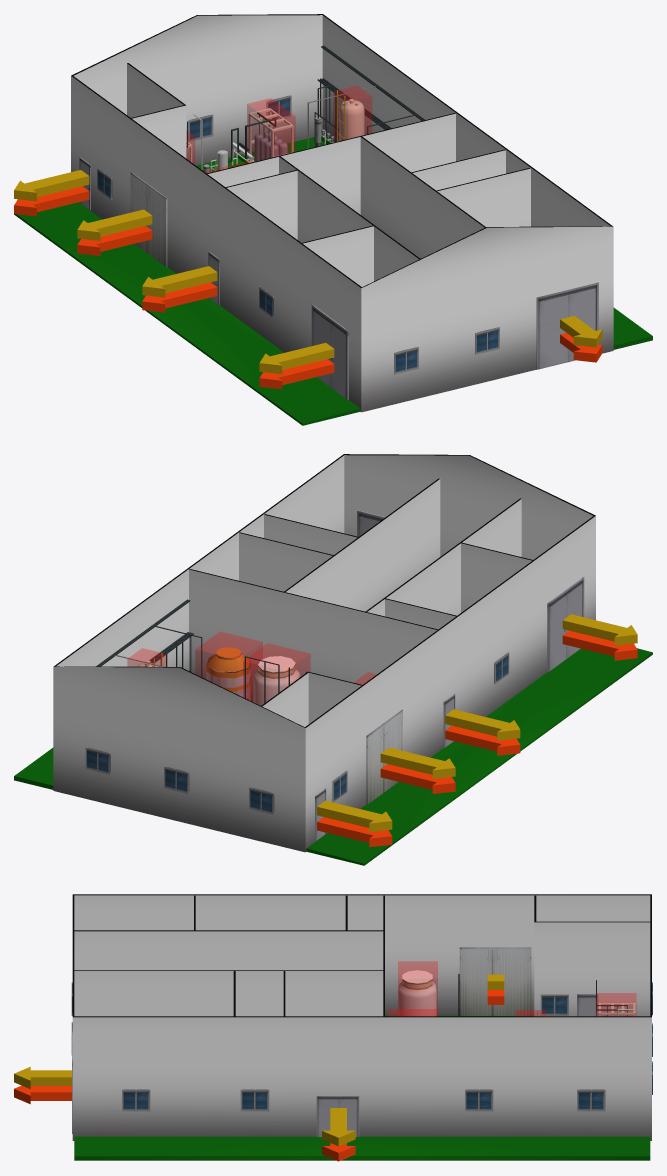
Rendered from soulbrain_T2-11-1F.glb.
The picture shows the model from 3 angles, top to bottom: view 1: azimuth 30°, elevation 25°; view 2: azimuth 150°, elevation 25°; view 3: azimuth 270°, elevation 25°; orthographic projection.
Visible parts, largest first — view 1: Line055, Box231, Box233, equipment-T2-11-1F-002, T2-11-1F, equipment-T2-11-1F-003, arrow_Y_2_T2-11-1F, arrow_Y_3_T2-11-1F, arrow_Y_4_T2-11-1F, arrow_Y_1_T2-11-1F, arrow_R_2_T2-11-1F, arrow_R_1_T2-11-1F (+9 smaller); view 2: Line055, Box231, Box233, equipment-T2-11-1F-004, equipment-T2-11-1F-005, T2-11-1F, ChamferCyl154, ChamferCyl156, arrow_Y_1_T2-11-1F, arrow_Y_4_T2-11-1F, arrow_Y_2_T2-11-1F, arrow_Y_3_T2-11-1F (+5 smaller); view 3: Line055, Box231, Box233, T2-11-1F, equipment-T2-11-1F-007, ChamferCyl157, arrow_Y_6_T2-11-1F, equipment-T2-11-1F-001, arrow_R_6_T2-11-1F, arrow_Y_5_T2-11-1F, arrow_R_5_T2-11-1F.
Boxes of the visible parts, <box> form: Line055: <box>71,14,613,412</box>; Box231: <box>14,137,652,425</box>; Box233: <box>79,95,598,399</box>; equipment-T2-11-1F-002: <box>247,98,295,161</box>; T2-11-1F: <box>130,172,167,267</box>; equipment-T2-11-1F-003: <box>333,86,371,141</box>; arrow_Y_2_T2-11-1F: <box>142,266,217,297</box>; arrow_Y_3_T2-11-1F: <box>77,209,152,240</box>; arrow_Y_4_T2-11-1F: <box>14,170,89,201</box>; arrow_Y_1_T2-11-1F: <box>259,343,334,374</box>; arrow_R_2_T2-11-1F: <box>142,282,217,312</box>; arrow_R_1_T2-11-1F: <box>259,359,334,389</box>; Line055: <box>53,454,595,852</box>; Box231: <box>14,648,652,865</box>; Box233: <box>85,510,584,841</box>; equipment-T2-11-1F-004: <box>195,632,262,701</box>; equipment-T2-11-1F-005: <box>243,643,310,705</box>; T2-11-1F: <box>366,709,402,804</box>; ChamferCyl154: <box>206,647,250,700</box>; ChamferCyl156: <box>253,656,300,705</box>; arrow_Y_1_T2-11-1F: <box>562,614,637,645</box>; arrow_Y_4_T2-11-1F: <box>317,800,392,832</box>; arrow_Y_2_T2-11-1F: <box>445,709,520,740</box>; arrow_Y_3_T2-11-1F: <box>380,747,455,778</box>; Line055: <box>72,894,651,1140</box>; Box231: <box>74,1015,650,1160</box>; Box233: <box>71,982,652,1136</box>; T2-11-1F: <box>459,947,531,1015</box>; equipment-T2-11-1F-007: <box>398,961,437,1015</box>; ChamferCyl157: <box>398,970,436,1016</box>; arrow_Y_6_T2-11-1F: <box>14,1067,71,1088</box>; equipment-T2-11-1F-001: <box>596,993,636,1015</box>; arrow_R_6_T2-11-1F: <box>14,1085,71,1104</box>; arrow_Y_5_T2-11-1F: <box>322,1108,355,1146</box>; arrow_R_5_T2-11-1F: <box>322,1143,355,1161</box>.
Size of what is drawn, in the model's own units: 18.72 by 7.15 by 26.92.
Materials: 30 (25 with a texture image).
